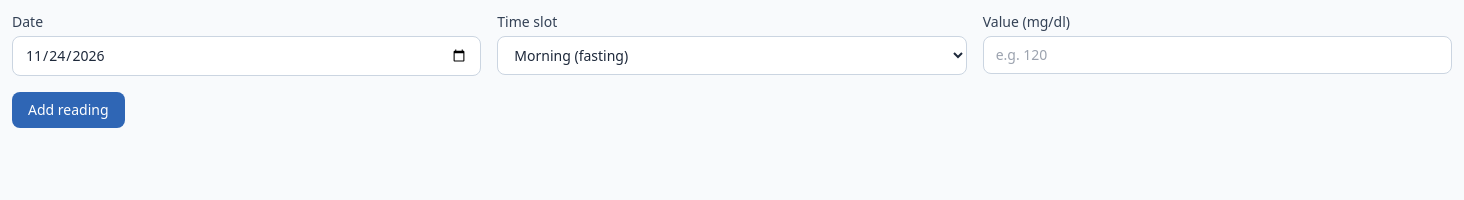
it: ReadingForm › shows the range error for an out-of-range value
The image size is (1464, 200).
Type "700" into the field labelled "Value (mg/dl)" at (1217, 55), box [983,36,1452,74]
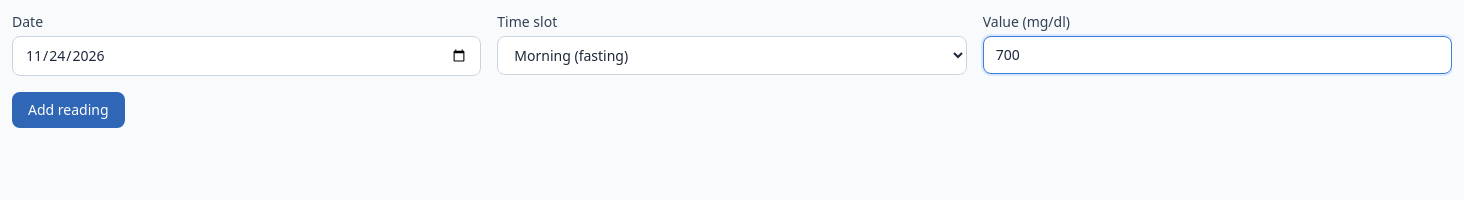
Click the button "Add reading" at (68, 110), box [12,92,124,128]
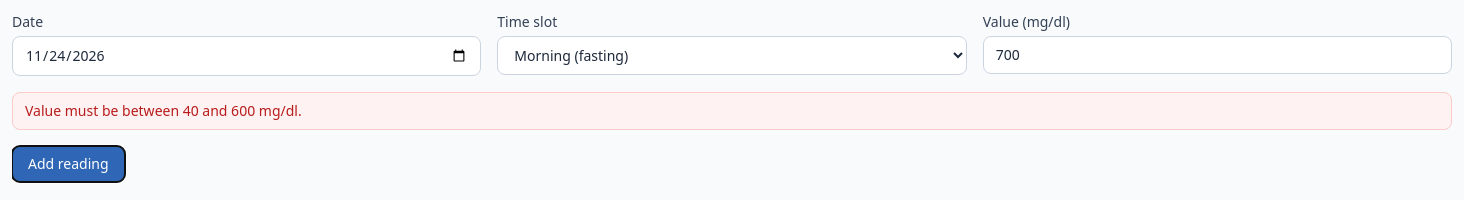
Check: the message reads "Value must be between 40 and 600 mg/dl.", box [25,101,302,120]
